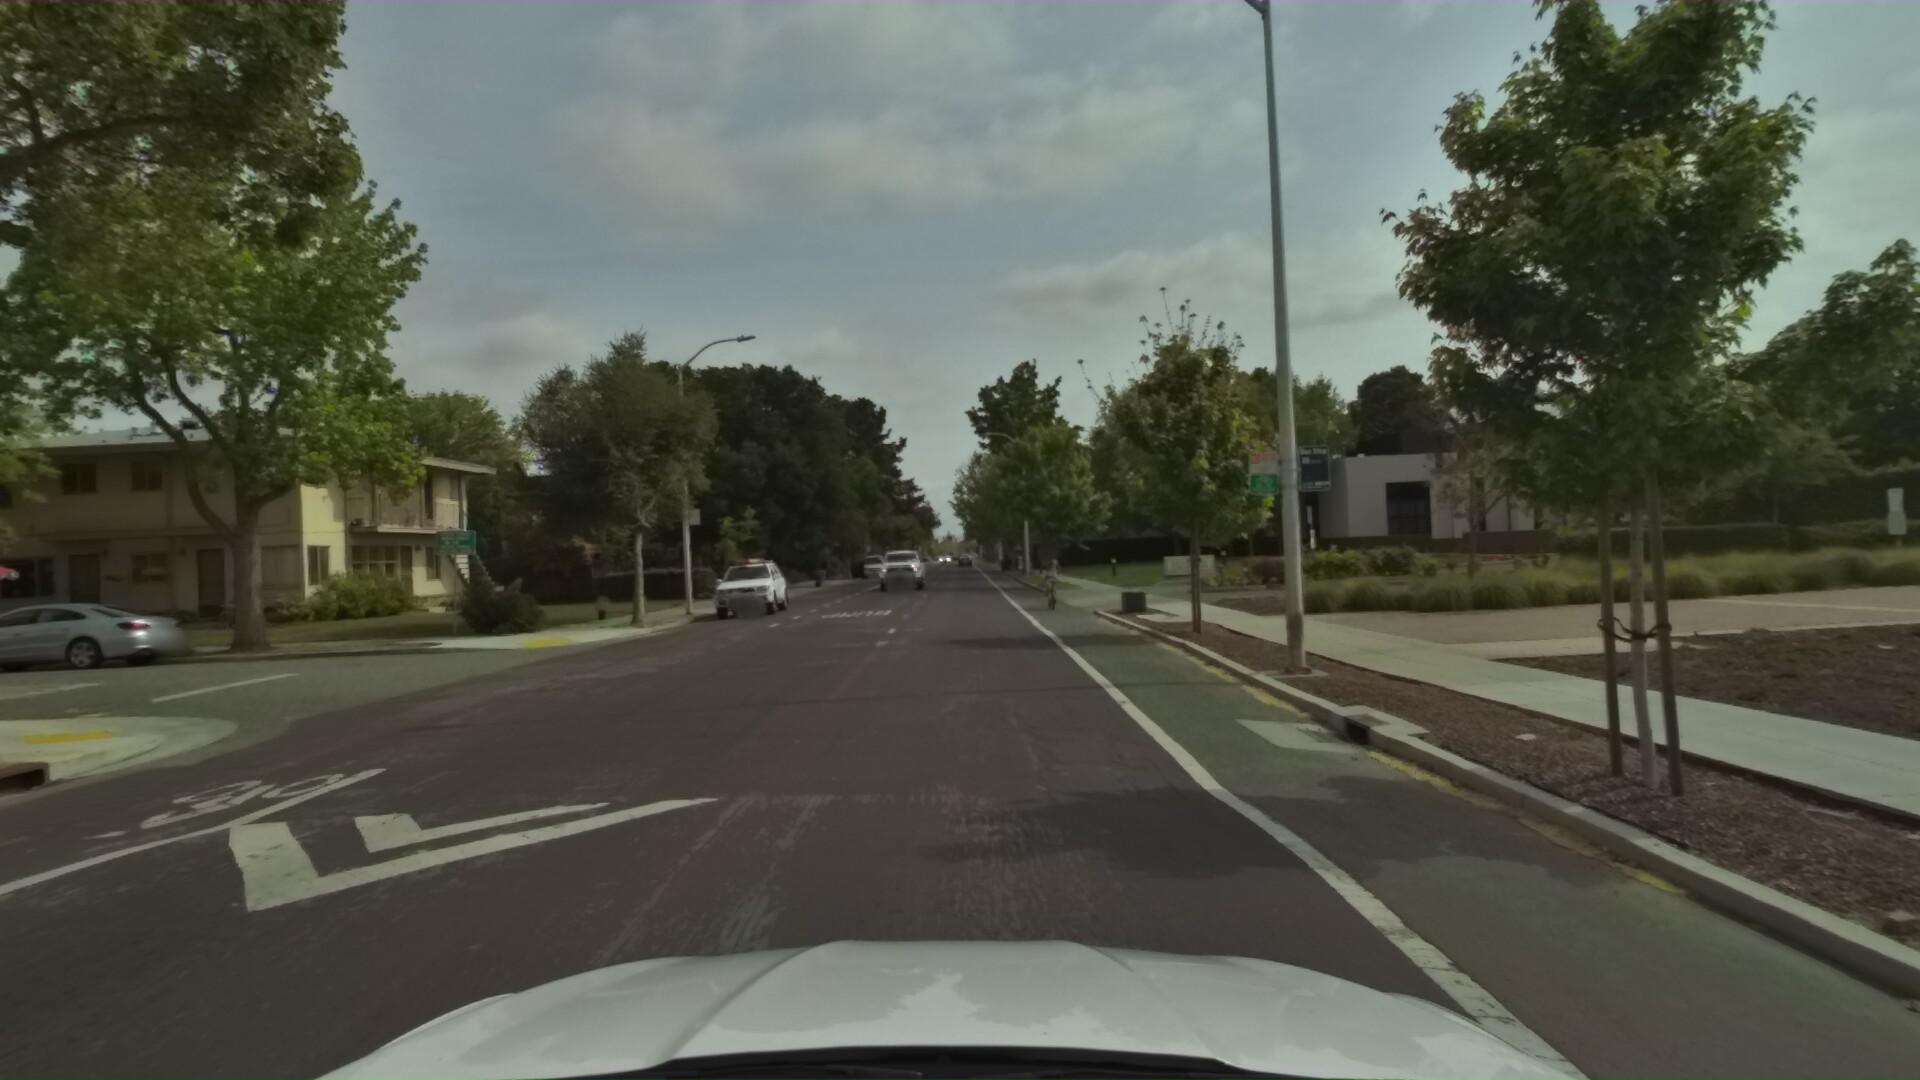bicycle: (1023, 549, 1067, 615)
car: (0, 599, 198, 686), (702, 556, 790, 626), (873, 545, 924, 596), (858, 555, 887, 582)
